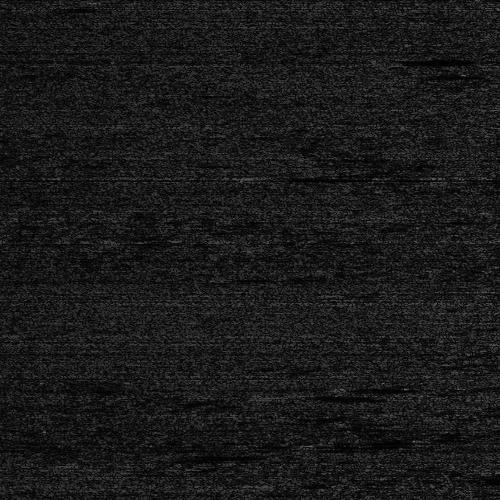rock: (209, 175, 292, 182), (241, 391, 314, 398), (364, 55, 417, 62)
shadow: (391, 55, 472, 62), (278, 391, 352, 398), (251, 175, 322, 182)
